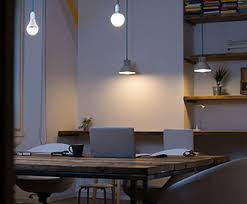bulb: (21, 15, 44, 41), (106, 9, 134, 28)
